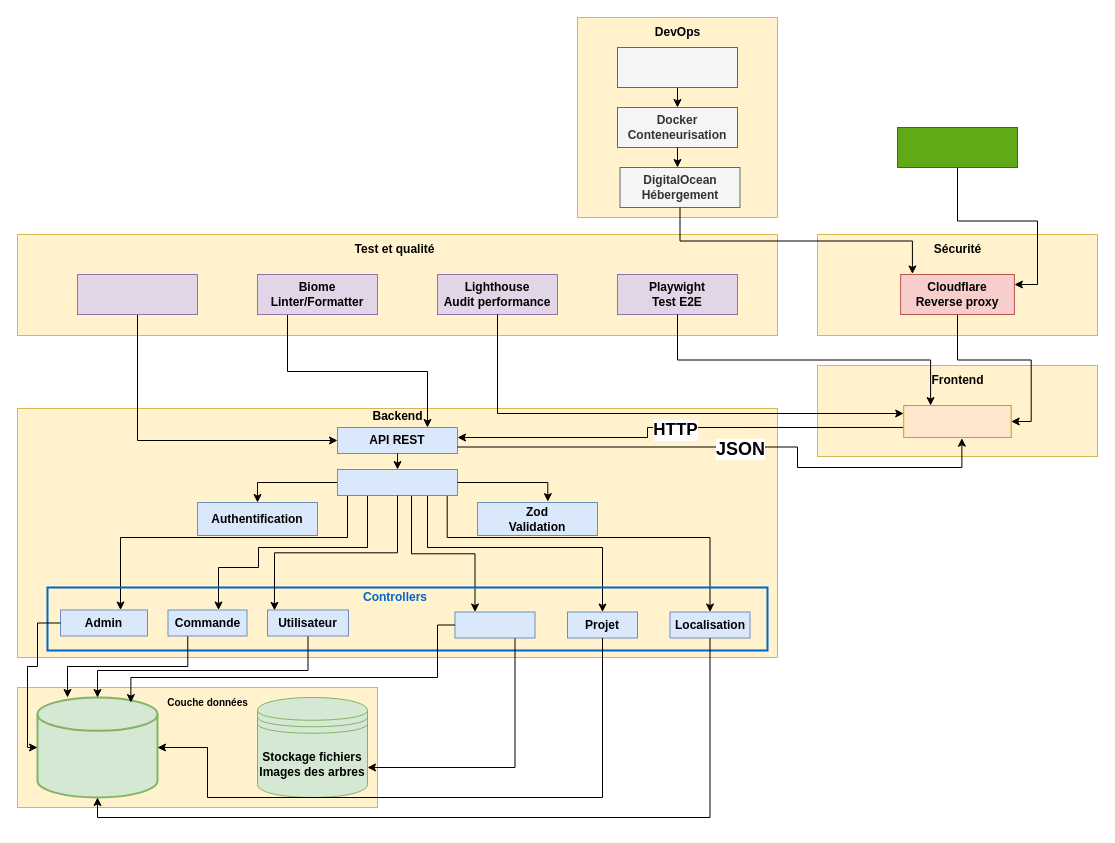
The diagram is 1115 pixels wide and 843 high, and some of its shapes have lost their labels. Each missing label, with the box of its shape:
Arbre: (454, 611, 535, 638)
GitHub Actions CI/CD: (616, 46, 738, 88)
Jest Test unitaires: (76, 274, 198, 314)
Middleware: (336, 468, 458, 496)
Navigateur: (896, 126, 1018, 168)
PostgreSQL Base de données: (36, 696, 158, 798)
React: (903, 404, 1011, 438)
